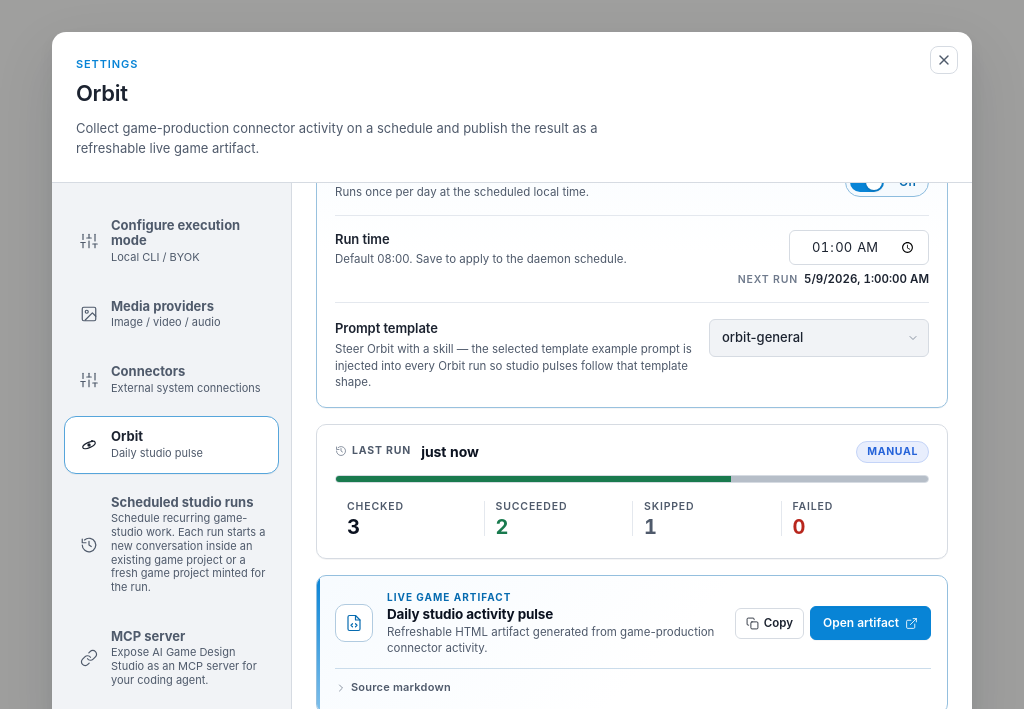
Test: SettingsDialog Orbit connector gate refresh › renders the latest Orbit run receipt and supports copying its markdown
The width and height of the screenshot is (1024, 709).
(page scrolled)
Expected: the text "Last run" is shown, [335, 443, 411, 459]
Expected: the text "Checked" is shown, [347, 500, 404, 513]
Click the button "Copy": (769, 623) [735, 608, 804, 639]
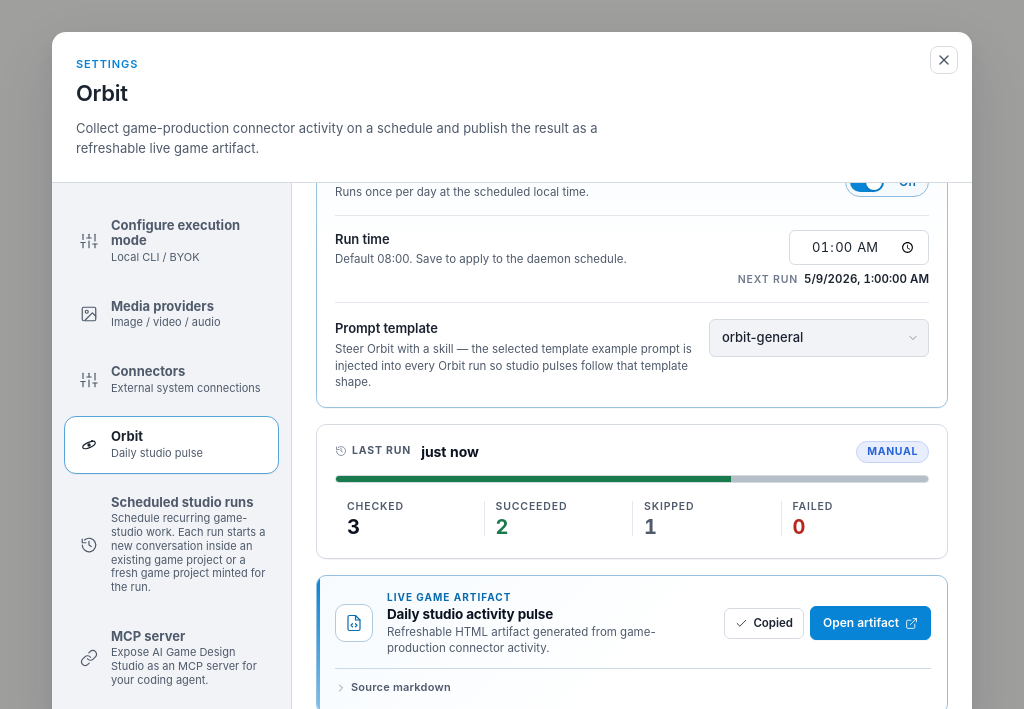
Now the text "Copied" is shown, box [753, 615, 793, 632]
